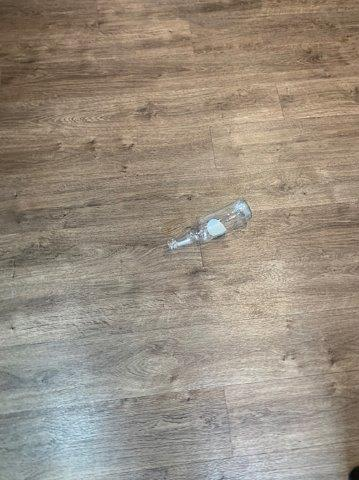botolkaca: (166, 198, 253, 251)
